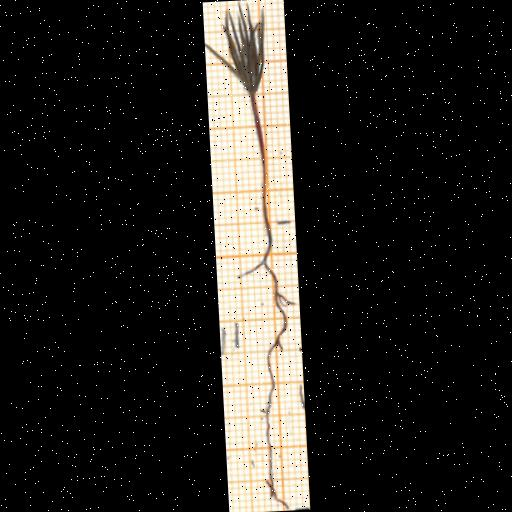flowerPinus: (204, 2, 265, 95)
rootPinus: (240, 222, 293, 509)
stemPinus: (249, 93, 269, 220)
